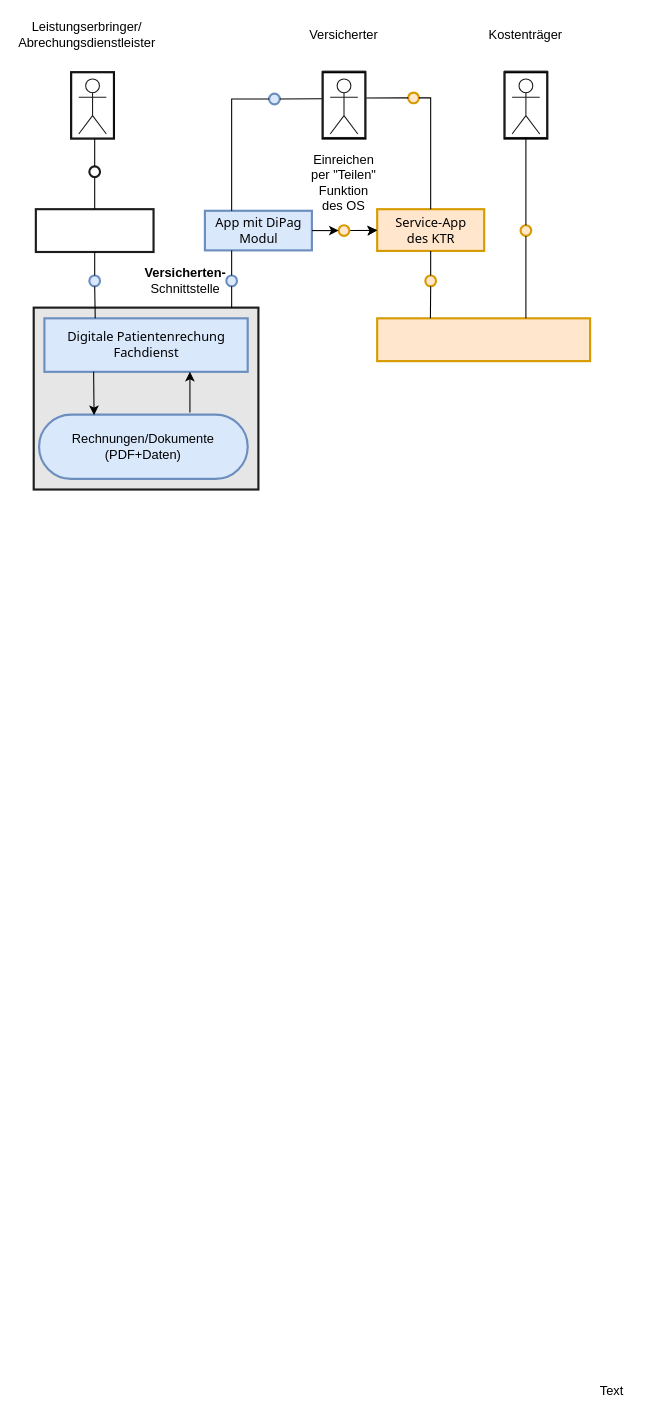
This 656x1425 diagram has some shape labels left out. The centre of each missing label's shape, as x and y in pixels:
Primärsystem: [94,230]
Vorhandenes Backend des KTR: [483,339]
